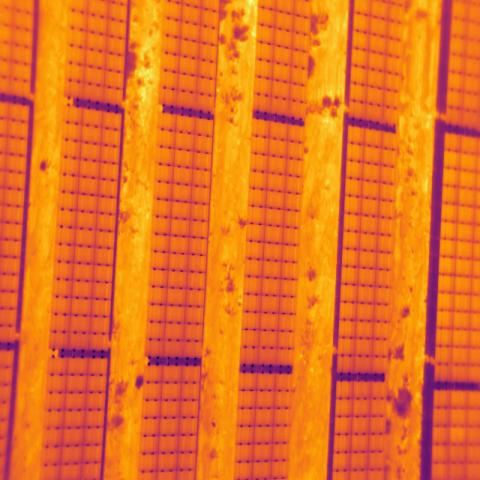fault: (450, 427, 466, 446)
